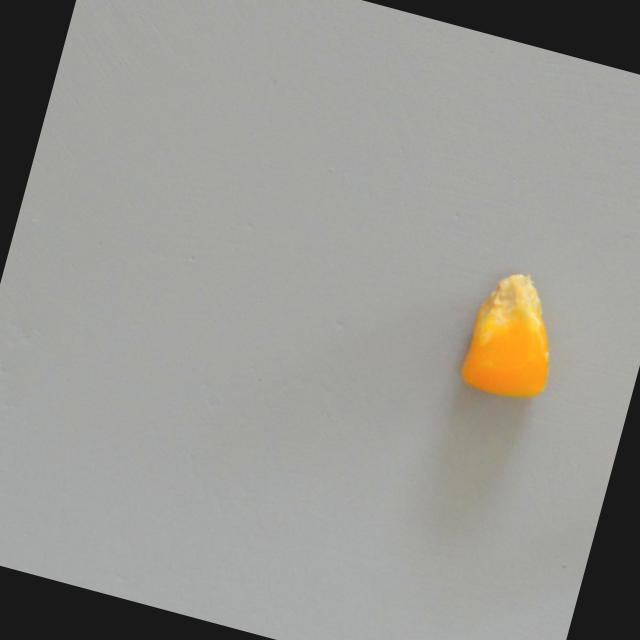entero: (453, 260, 575, 408)
